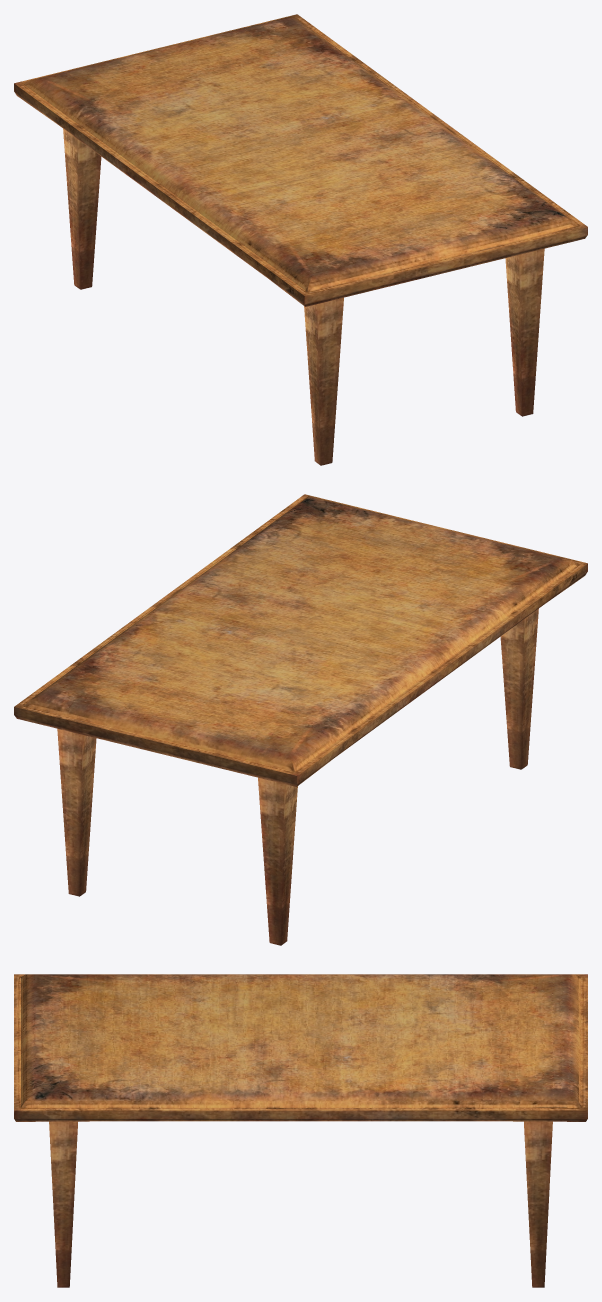
Rendered from dining-table.glb.
3 renders of one model, top to bottom at view 1: azimuth 30°, elevation 25°; view 2: azimuth 150°, elevation 25°; view 3: azimuth 270°, elevation 25°, orthographic.
Parts seen in each view (by area): view 1: dining_table; view 2: dining_table; view 3: dining_table.
Part boxes in pixels (left/top/right/bottom): dining_table: left=14, top=14, right=587, bottom=465; dining_table: left=14, top=494, right=587, bottom=945; dining_table: left=14, top=974, right=587, bottom=1287.
Bounding box in the file's own units: 1.15 × 0.7907 × 2.05.
Materials: 1 (1 with a texture image).
